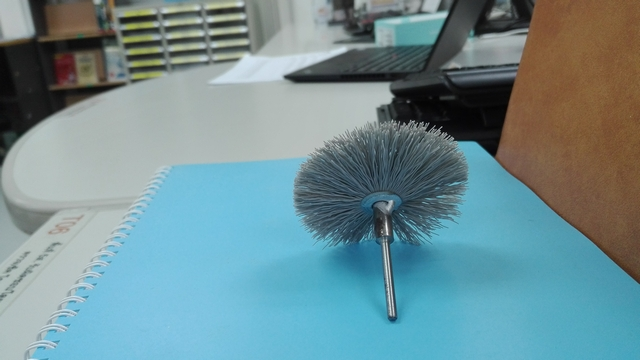TOOL: (265, 114, 497, 356), (219, 80, 466, 257), (286, 108, 460, 298)
